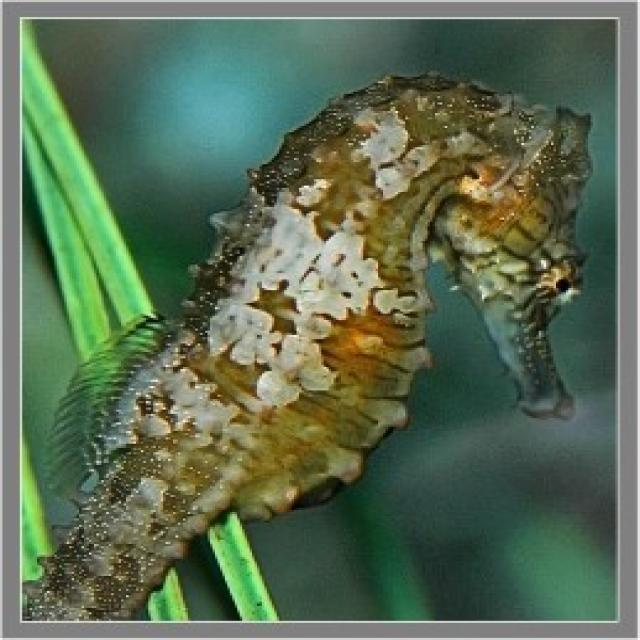Seahorse: (33, 64, 604, 626)
